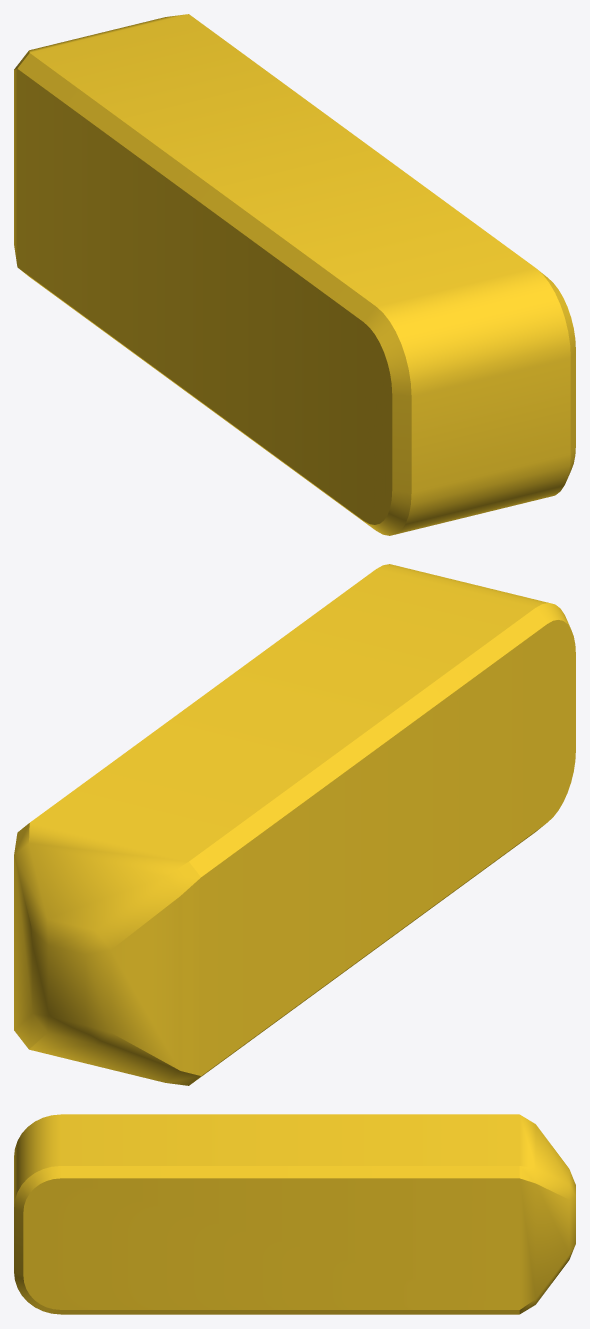
File: Motor.fbx
3 views of the same model, one above another, from view 1: azimuth 30°, elevation 25°; view 2: azimuth 150°, elevation 25°; view 3: azimuth 270°, elevation 25° (orthographic). The views are drawn at different scales.
Parts seen in each view (by area): view 1: Motor; view 2: Motor; view 3: Motor.
Boxes of the visible parts, x1,y1,x2,y2 form: Motor: (14,14,575,535); Motor: (14,564,575,1085); Motor: (14,1114,575,1314).
Bounding box in the file's own units: 1.5 × 1.75 × 6.
